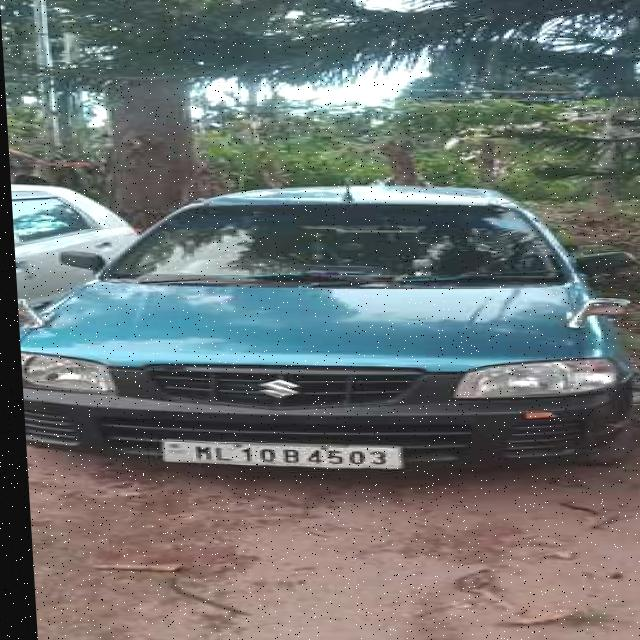plate: (148, 435, 397, 473)
